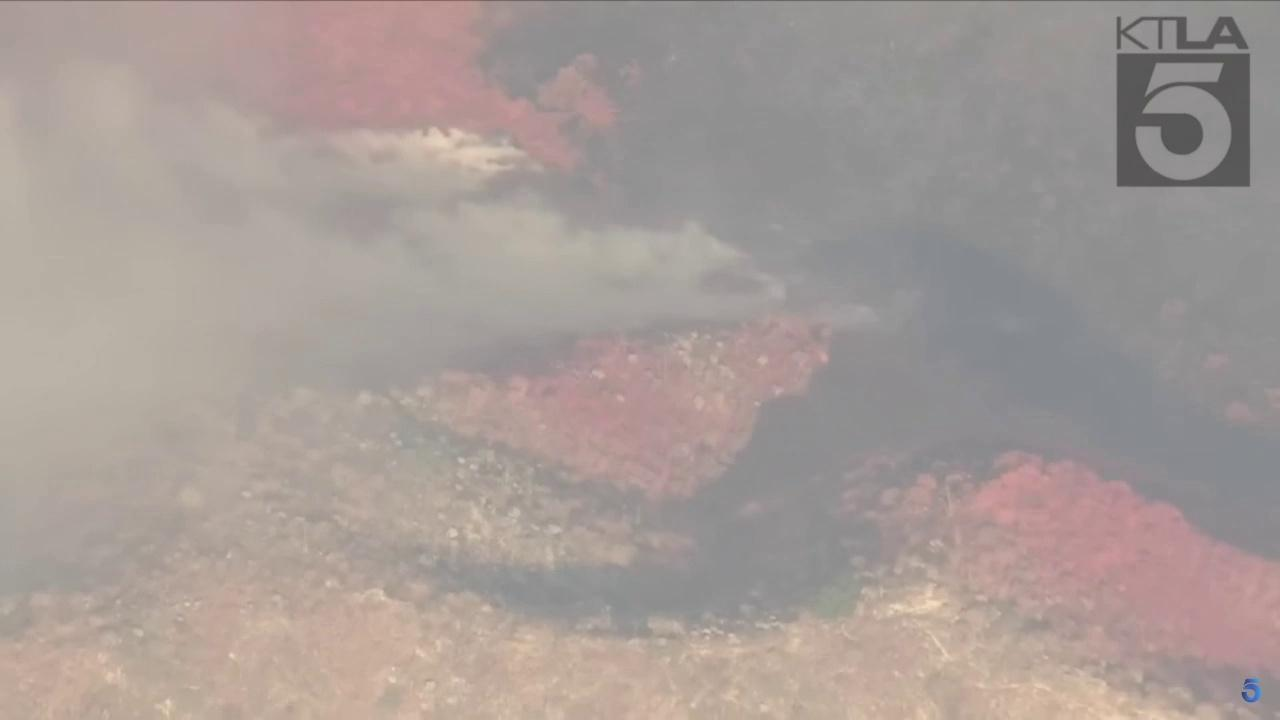smoke: (0, 0, 796, 599)
